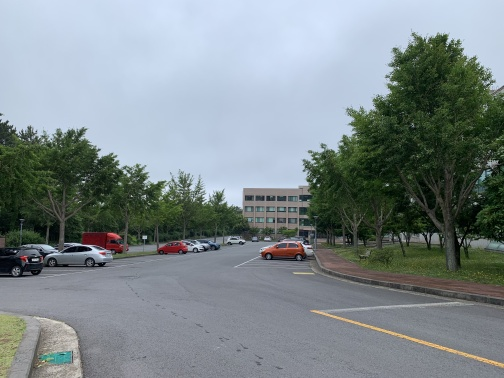Joint Experimental Labs: (241, 183, 319, 238)
